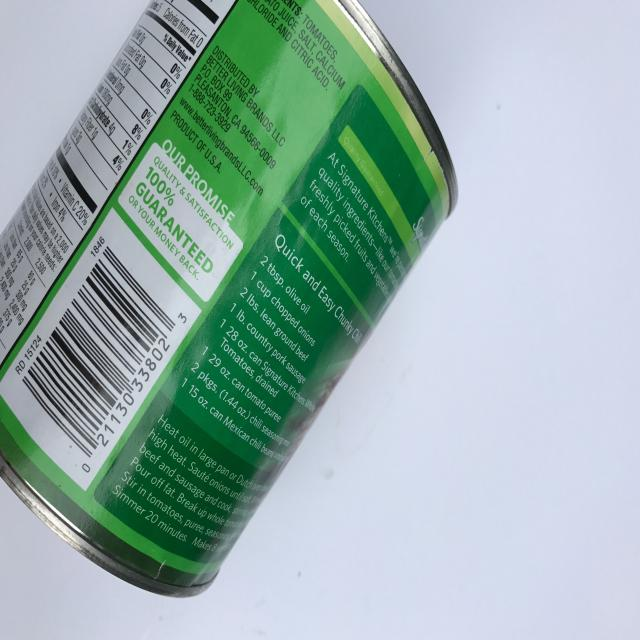metal: (0, 0, 459, 599)
